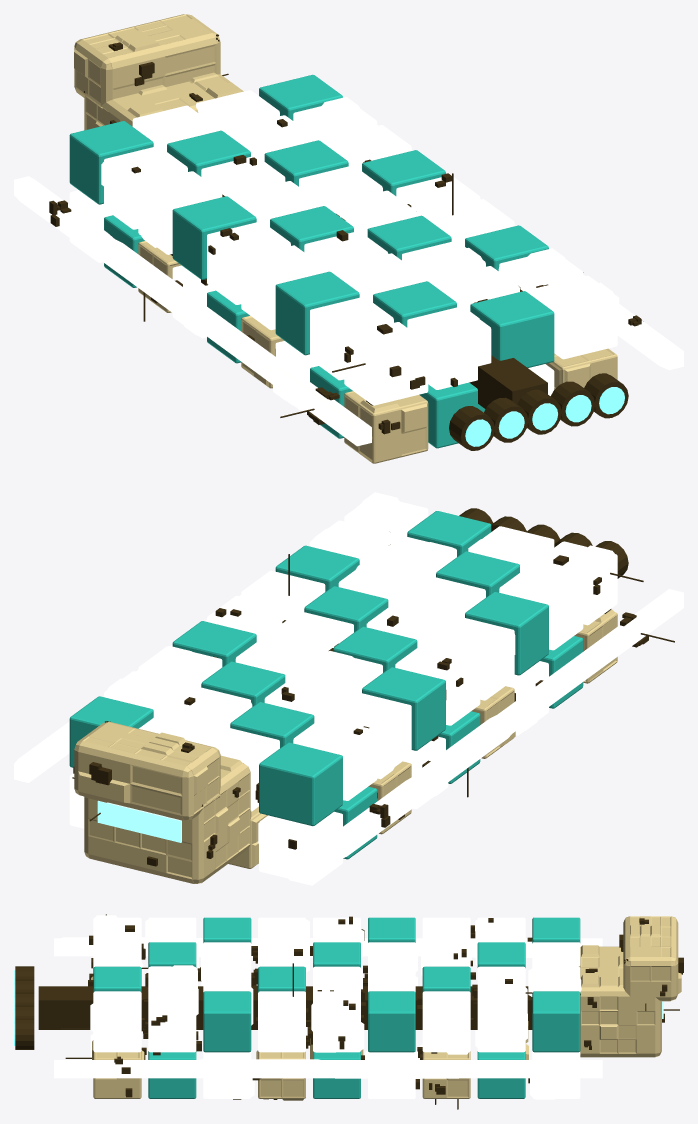
The model's file is orrun_titan.glb.
The picture shows the model from 3 angles, top to bottom: view 1: azimuth 30°, elevation 25°; view 2: azimuth 150°, elevation 25°; view 3: azimuth 270°, elevation 25°; orthographic projection. The views are drawn at different scales.
Parts seen in each view (by area): view 1: orrun_titan; view 2: orrun_titan; view 3: orrun_titan.
Boxes of the visible parts, x1,y1,x2,y2 form: orrun_titan: (14, 14, 683, 463); orrun_titan: (14, 492, 683, 885); orrun_titan: (14, 914, 683, 1109).
Bounding box in the file's own units: 5.06 × 2.42 × 10.09.
